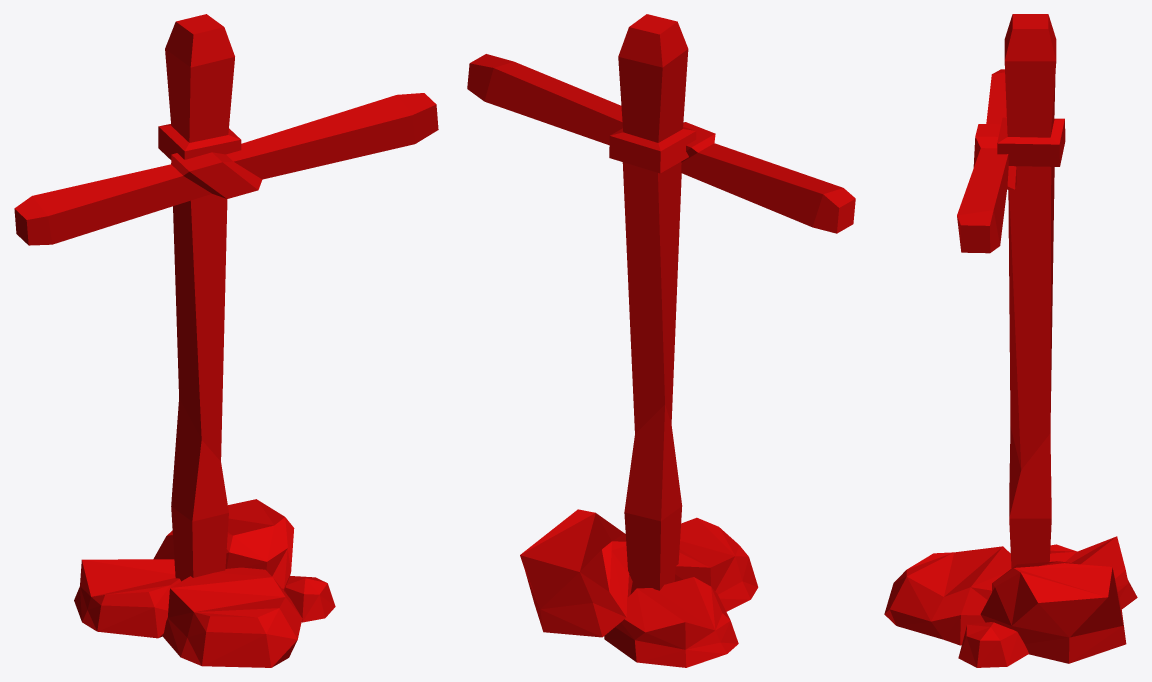
File: synty-prop-grave-03.gltf
3 renders of one model, left to right at view 1: azimuth 30°, elevation 25°; view 2: azimuth 150°, elevation 25°; view 3: azimuth 270°, elevation 25°, orthographic.
Parts seen in each view (by area): view 1: SM_Prop_Grave_03; view 2: SM_Prop_Grave_03; view 3: SM_Prop_Grave_03.
Boxes of the visible parts, x1,y1,x2,y2 form: SM_Prop_Grave_03: (14, 14, 438, 667); SM_Prop_Grave_03: (467, 14, 855, 667); SM_Prop_Grave_03: (884, 14, 1137, 667).
Size of the model in its own units: 0.7489 by 1.07 by 0.4145.
